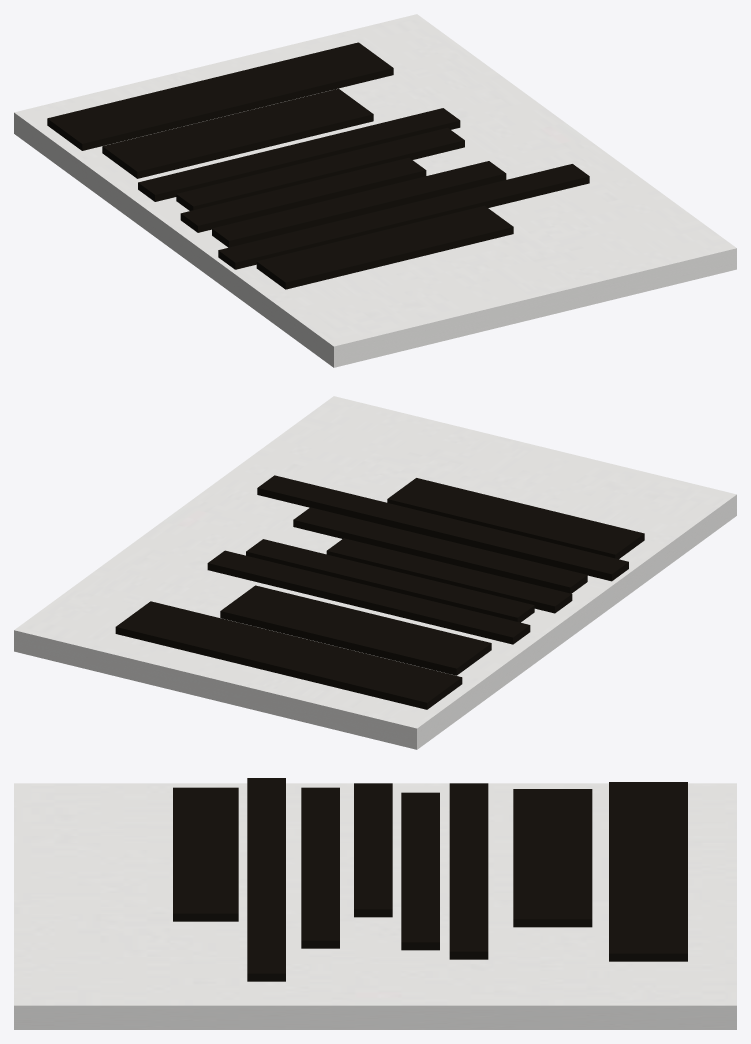
File: PaperInteractableForClues.fbx
3 renders of one model, top to bottom at view 1: azimuth 30°, elevation 25°; view 2: azimuth 150°, elevation 25°; view 3: azimuth 270°, elevation 25°, orthographic. The views are drawn at different scales.
Visible parts, largest first — view 1: Cube, Cube.008; view 2: Cube, Cube.008; view 3: Cube, Cube.008.
Part boxes in pixels (left/top/right/bottom): Cube: left=14, top=14, right=736, bottom=367; Cube.008: left=47, top=42, right=589, bottom=289; Cube: left=14, top=396, right=736, bottom=749; Cube.008: left=115, top=475, right=644, bottom=709; Cube: left=14, top=783, right=736, bottom=1029; Cube.008: left=173, top=778, right=687, bottom=981.
Size of the model in its own units: 143 by 9.65 by 197.
